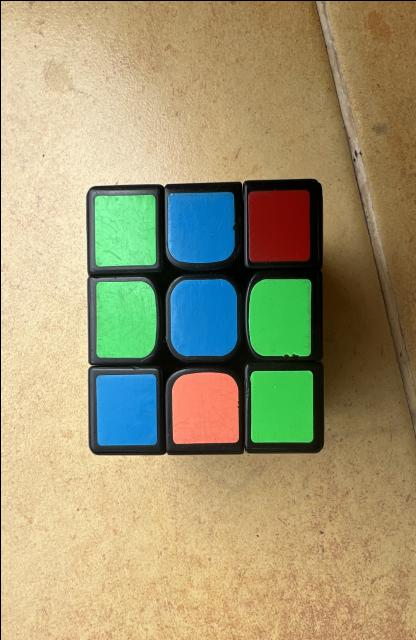Blue: (169, 278, 236, 355), (167, 191, 234, 262), (95, 374, 156, 445)
Green: (247, 278, 311, 355), (95, 280, 156, 358), (249, 369, 313, 442), (93, 194, 155, 266)
Orange: (171, 371, 238, 444)
Red: (247, 189, 309, 261)
